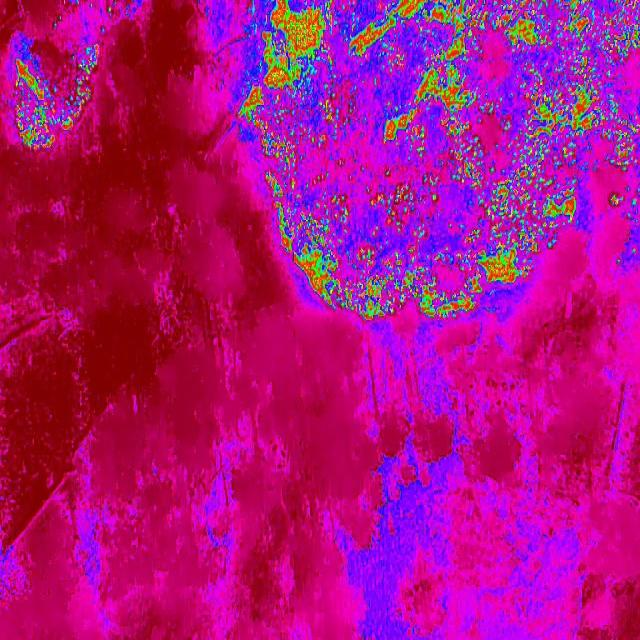fire: (195, 0, 640, 144), (261, 142, 640, 230), (280, 230, 556, 280), (0, 30, 105, 159), (306, 280, 526, 322)
